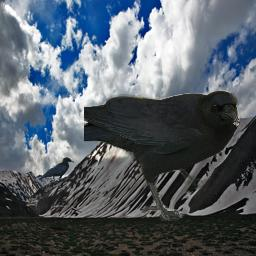Crow: (84, 90, 240, 221), (36, 157, 74, 184)
